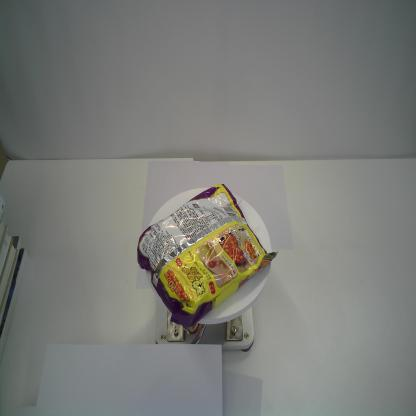Instant Noodles: (136, 182, 280, 330)
